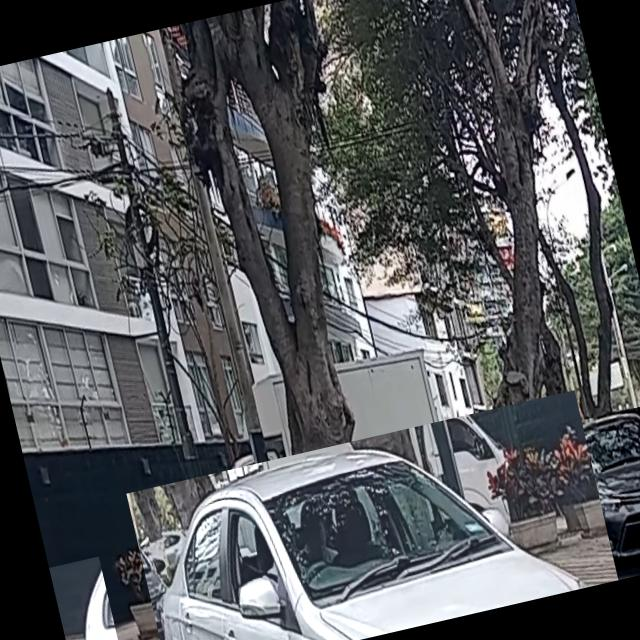car: (126, 390, 618, 640), (559, 400, 640, 577), (49, 556, 130, 640)
